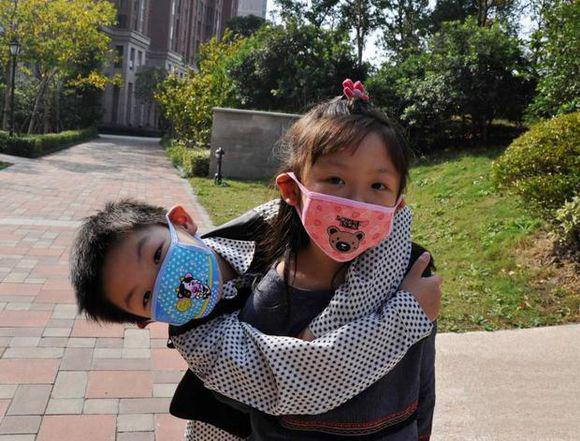OK: (124, 233, 219, 328)
WRONG: (304, 161, 393, 261)
